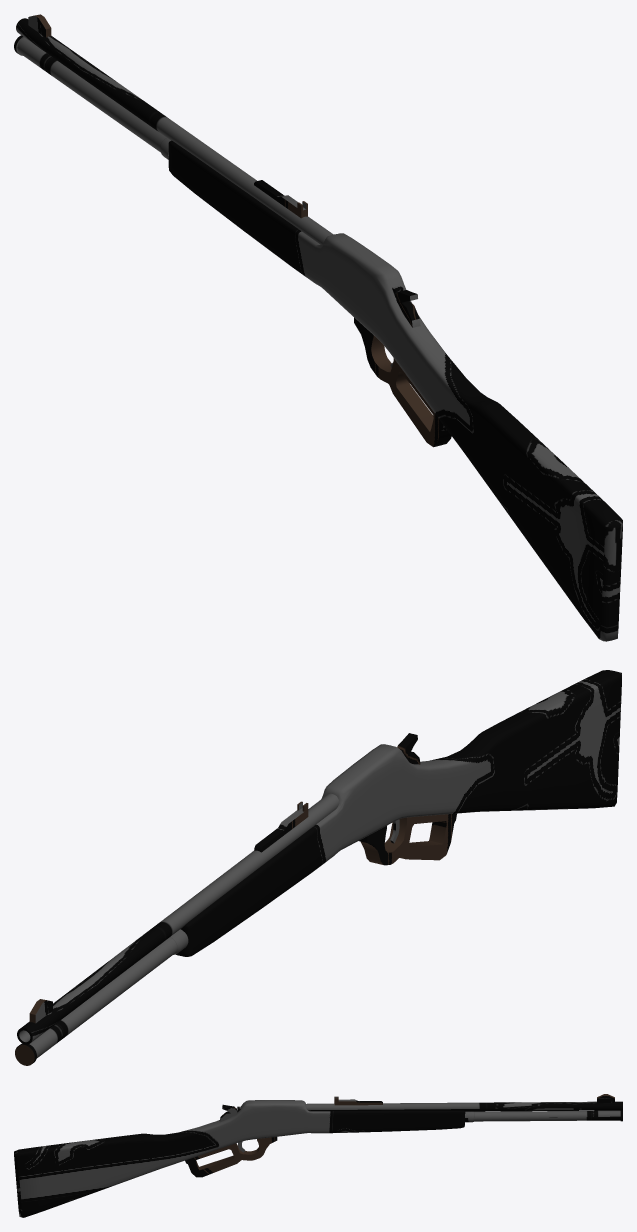
File: Rifle2.obj
3 views of the same model, one above another, from view 1: azimuth 30°, elevation 25°; view 2: azimuth 150°, elevation 25°; view 3: azimuth 270°, elevation 25° (orthographic). The views are drawn at different scales.
Visible parts, largest first — view 1: handle_low_Cube.010, barrel_low_Cylinder, barrel_2_low_Cylinder.001, Trigger_bracket_low_Cube.017; view 2: handle_low_Cube.010, barrel_low_Cylinder, barrel_2_low_Cylinder.001, Trigger_bracket_low_Cube.017, aim_low_Cube.008; view 3: handle_low_Cube.010, barrel_low_Cylinder, barrel_2_low_Cylinder.001, Trigger_bracket_low_Cube.017, aim_low_Cube.008.
Part boxes in pixels (left/top/right/bottom): handle_low_Cube.010: left=168, top=140, right=622, bottom=641; barrel_low_Cylinder: left=16, top=18, right=333, bottom=244; barrel_2_low_Cylinder.001: left=14, top=35, right=170, bottom=159; Trigger_bracket_low_Cube.017: left=354, top=317, right=451, bottom=447; handle_low_Cube.010: left=176, top=670, right=621, bottom=956; barrel_low_Cylinder: left=17, top=793, right=339, bottom=1044; barrel_2_low_Cylinder.001: left=15, top=929, right=188, bottom=1065; Trigger_bracket_low_Cube.017: left=359, top=813, right=456, bottom=865; aim_low_Cube.008: left=254, top=801, right=308, bottom=852; handle_low_Cube.010: left=14, top=1100, right=465, bottom=1217; barrel_low_Cylinder: left=306, top=1101, right=622, bottom=1111; barrel_2_low_Cylinder.001: left=465, top=1110, right=622, bottom=1122; Trigger_bracket_low_Cube.017: left=185, top=1137, right=277, bottom=1177; aim_low_Cube.008: left=334, top=1096, right=382, bottom=1105.
Size of the model in its own units: 0.0474 by 0.2823 by 1.33.
